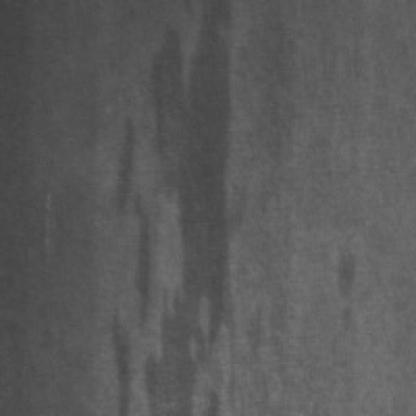inclusion: (108, 18, 237, 410), (324, 244, 362, 324)
